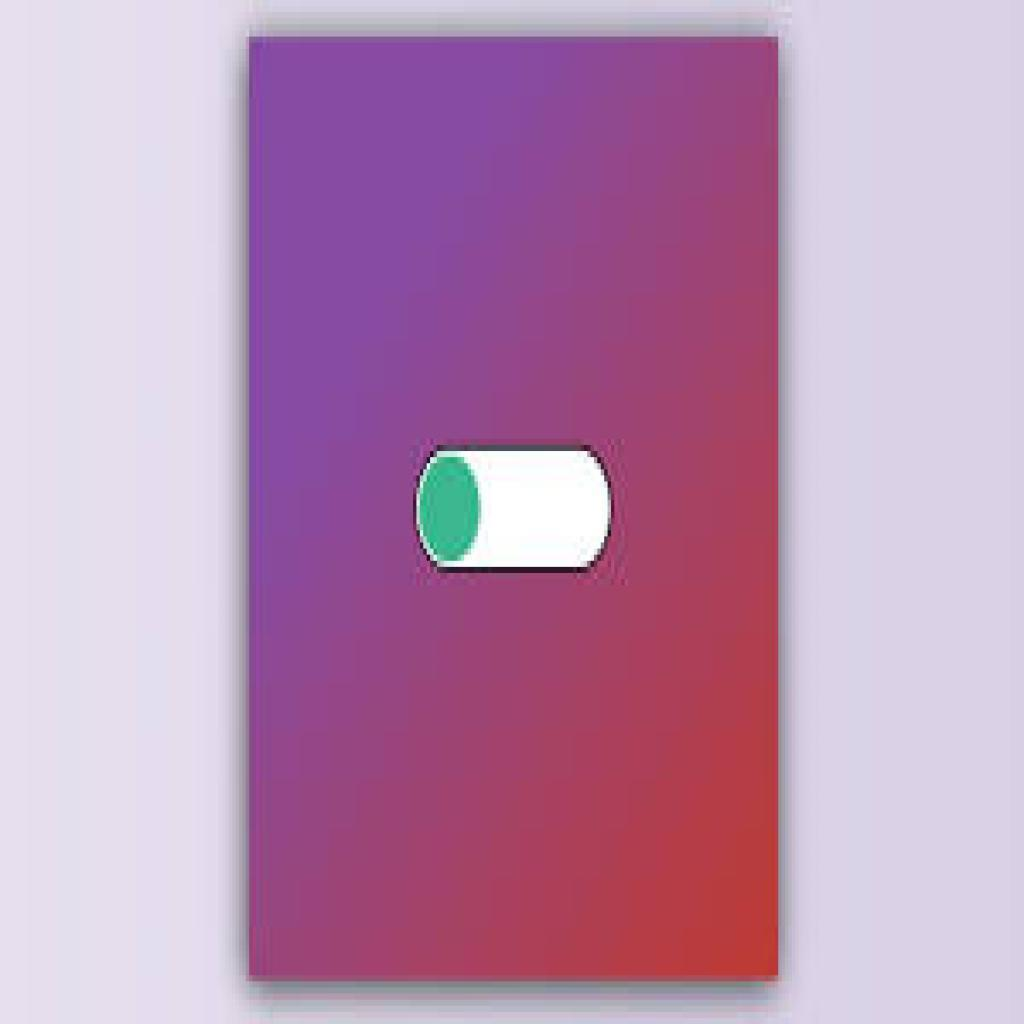switch: (411, 441, 620, 580)
